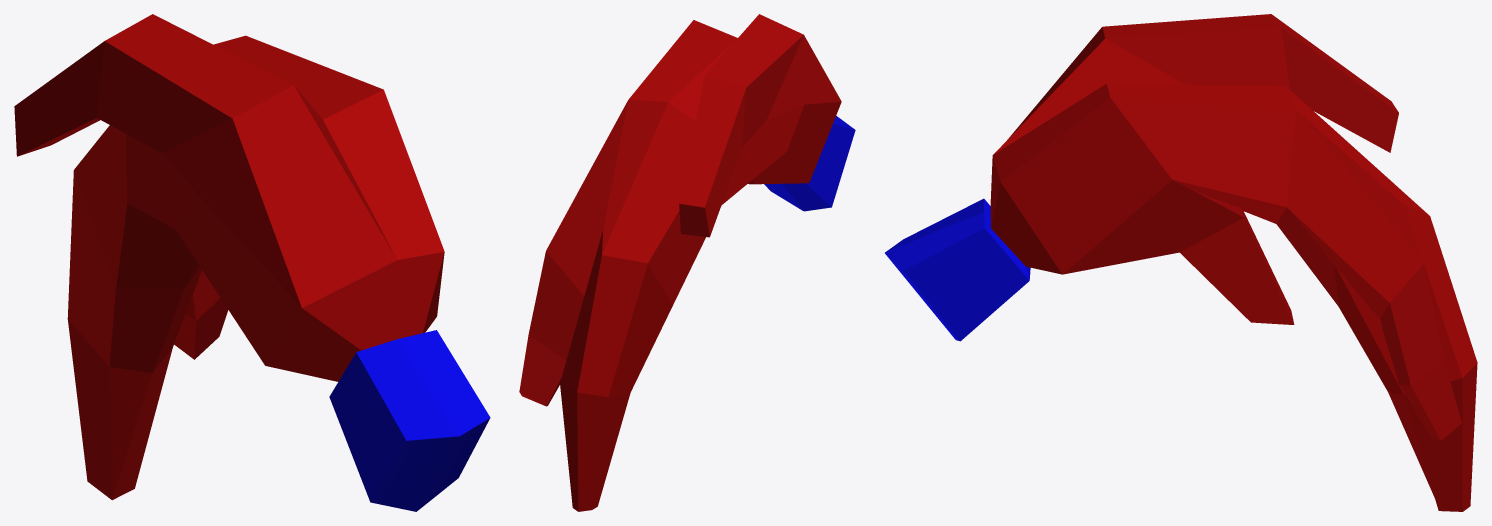
The model's file is Chr_HelmetAttachment_Static_00.fbx.
3 views of the same model, side by side, from view 1: azimuth 30°, elevation 25°; view 2: azimuth 150°, elevation 25°; view 3: azimuth 270°, elevation 25° (orthographic). The views are drawn at different scales.
Visible parts, largest first — view 1: Chr_HelmetAttachment_01; view 2: Chr_HelmetAttachment_01; view 3: Chr_HelmetAttachment_01.
Boxes of the visible parts, x1,y1,x2,y2 form: Chr_HelmetAttachment_01: [14, 14, 490, 511]; Chr_HelmetAttachment_01: [519, 14, 855, 511]; Chr_HelmetAttachment_01: [885, 14, 1477, 511].
Size of the model in its own units: 16.71 by 38.44 by 45.13.
